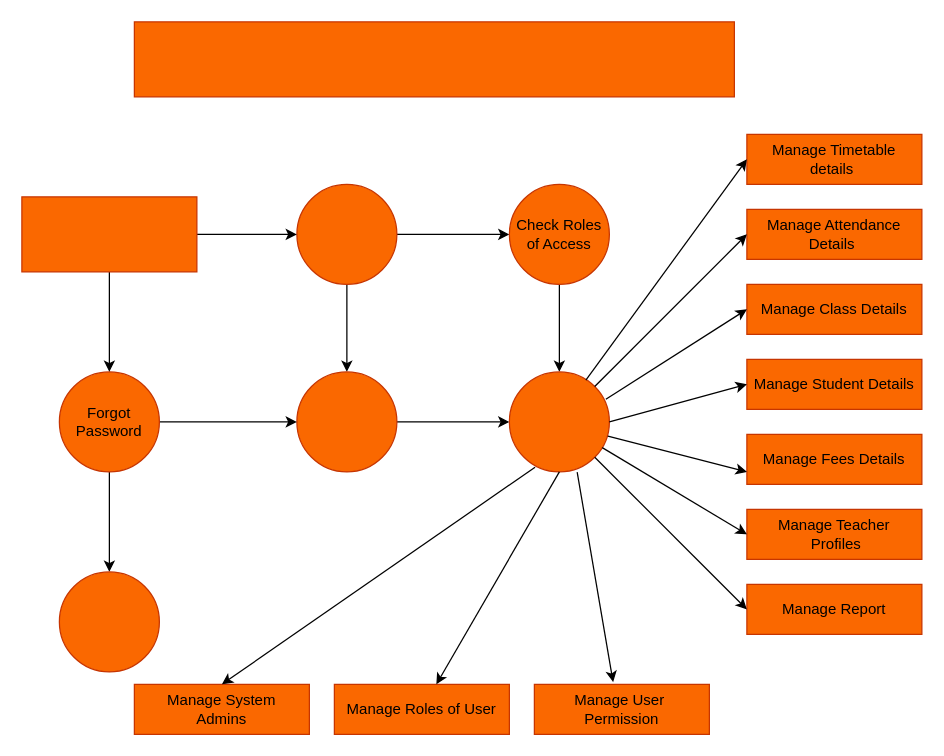
Some shapes in this 944 by 756 pixel diagram are drawn without their labels. Here are the shapes that lost their labels. From the top down, the centre of each, then its label:
At point (433, 59): "Students Information System".
At point (109, 234): "Admin".
At point (346, 233): "Login to System".
At point (346, 421): "Check Credentials".
At point (558, 421): "Manage Modules".
At point (108, 621): "Send Email ID User".
